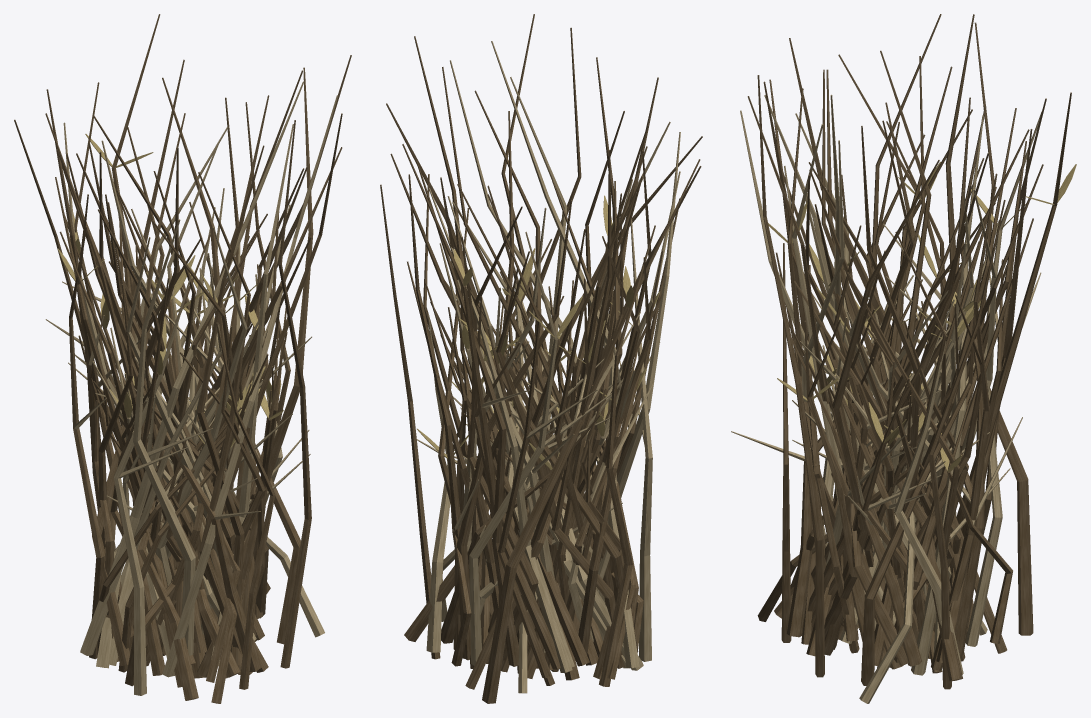
The model's file is BUSH_02_THORNBUSH.glb.
3 views of the same model, side by side, from view 1: azimuth 30°, elevation 25°; view 2: azimuth 150°, elevation 25°; view 3: azimuth 270°, elevation 25° (orthographic). The views are drawn at different scales.
Visible parts, largest first — view 1: BUSH_02_THORNBUSH__LIGNIFIED_STEMS, BUSH_02_THORNBUSH__PAPERY_DEAD_LEAVES; view 2: BUSH_02_THORNBUSH__LIGNIFIED_STEMS, BUSH_02_THORNBUSH__PAPERY_DEAD_LEAVES; view 3: BUSH_02_THORNBUSH__LIGNIFIED_STEMS, BUSH_02_THORNBUSH__PAPERY_DEAD_LEAVES.
Part boxes in pixels (x1,y1,x2,y2): BUSH_02_THORNBUSH__LIGNIFIED_STEMS: (14, 14, 351, 703); BUSH_02_THORNBUSH__PAPERY_DEAD_LEAVES: (57, 134, 283, 448); BUSH_02_THORNBUSH__LIGNIFIED_STEMS: (380, 14, 702, 703); BUSH_02_THORNBUSH__PAPERY_DEAD_LEAVES: (417, 195, 659, 469); BUSH_02_THORNBUSH__LIGNIFIED_STEMS: (731, 14, 1071, 703); BUSH_02_THORNBUSH__PAPERY_DEAD_LEAVES: (763, 162, 1076, 471).
Bounding box in the file's own units: 0.564 × 1.1 × 0.5811.
1 material, 1 textured.
